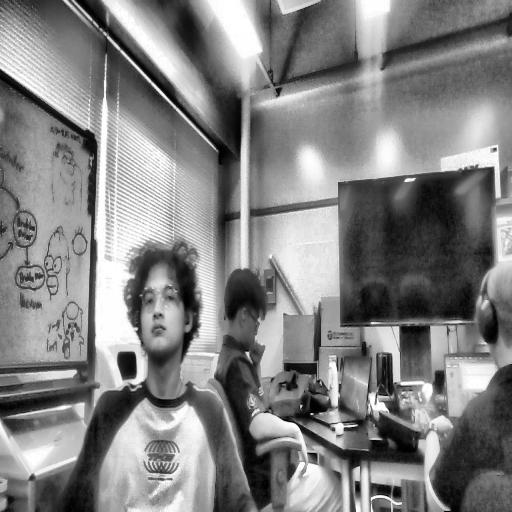Daifuku: (123, 242, 202, 364)
Not Daifuku: (475, 252, 512, 372), (220, 267, 263, 349)
